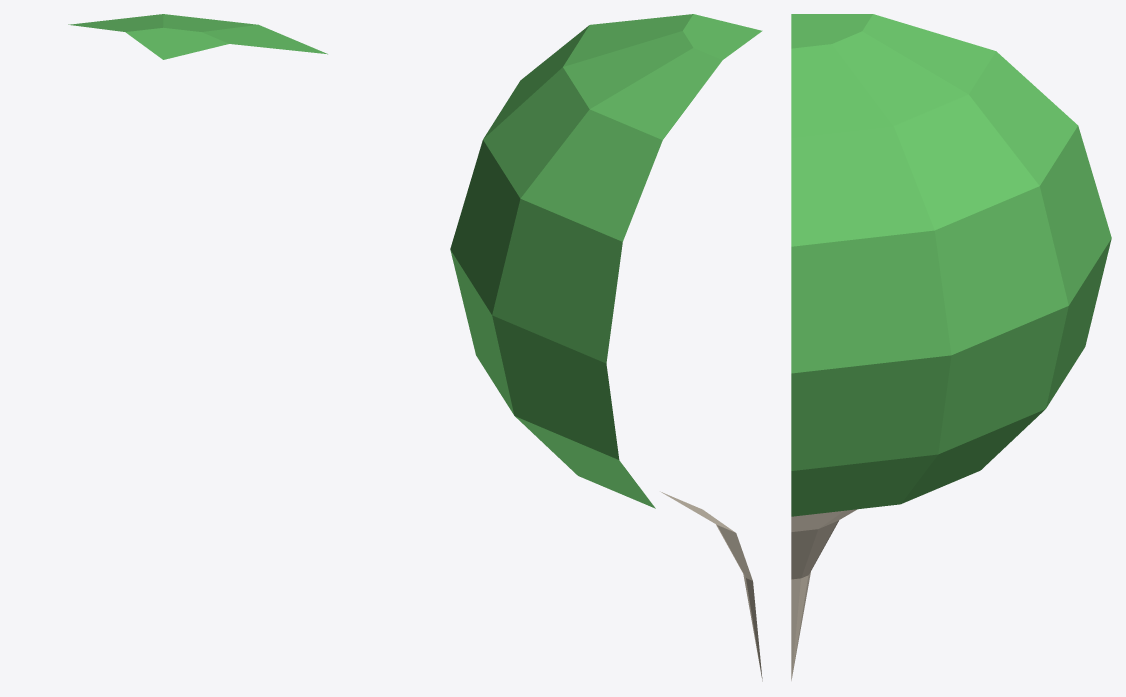
Rendered from Escarpment_Terrain_Corner_Outer_1x1_Top.glb.
3 views of the same model, side by side, from view 1: azimuth 30°, elevation 25°; view 2: azimuth 150°, elevation 25°; view 3: azimuth 270°, elevation 25° (orthographic). The views are drawn at different scales.
Visible parts, largest first — view 1: Escarpment_Terrain_Corner_Outer_1x1_Top; view 2: Escarpment_Terrain_Corner_Outer_1x1_Top; view 3: Escarpment_Terrain_Corner_Outer_1x1_Top.
Boxes of the visible parts, box(x1,y1,x2,y2) form: Escarpment_Terrain_Corner_Outer_1x1_Top: box(68, 14, 327, 59); Escarpment_Terrain_Corner_Outer_1x1_Top: box(450, 14, 762, 681); Escarpment_Terrain_Corner_Outer_1x1_Top: box(791, 14, 1111, 680).
Size of the model in its own units: 0.3909 by 0.9 by 0.3909.
